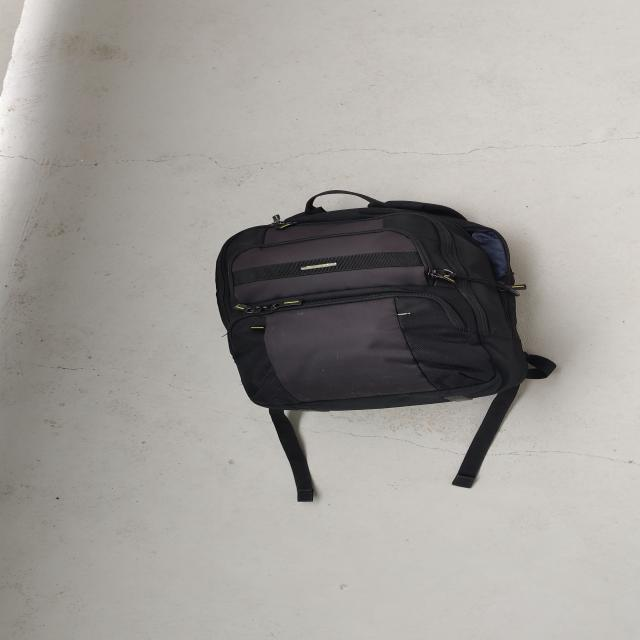backpack: (202, 184, 549, 424)
